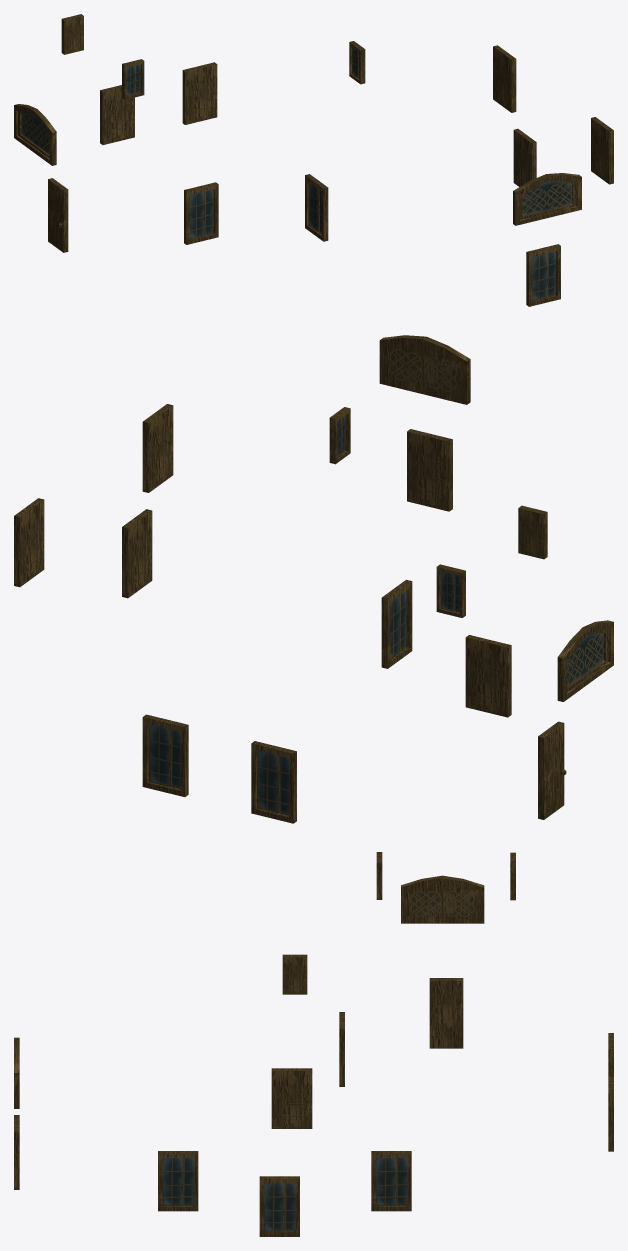
File: GMTK2024_Tavern_PlasterWallsEtc.fbx
3 renders of one model, top to bottom at view 1: azimuth 30°, elevation 25°; view 2: azimuth 150°, elevation 25°; view 3: azimuth 270°, elevation 25°, orthographic. The views are drawn at different scales.
Parts seen in each view (by area): view 1: Object1433; view 2: Object1433; view 3: Object1433.
Boxes of the visible parts, x1,y1,x2,y2 form: Object1433: [14, 14, 613, 306]; Object1433: [14, 335, 613, 823]; Object1433: [14, 852, 613, 1236].
Bounding box in the file's own units: 114 × 47.39 × 121.
